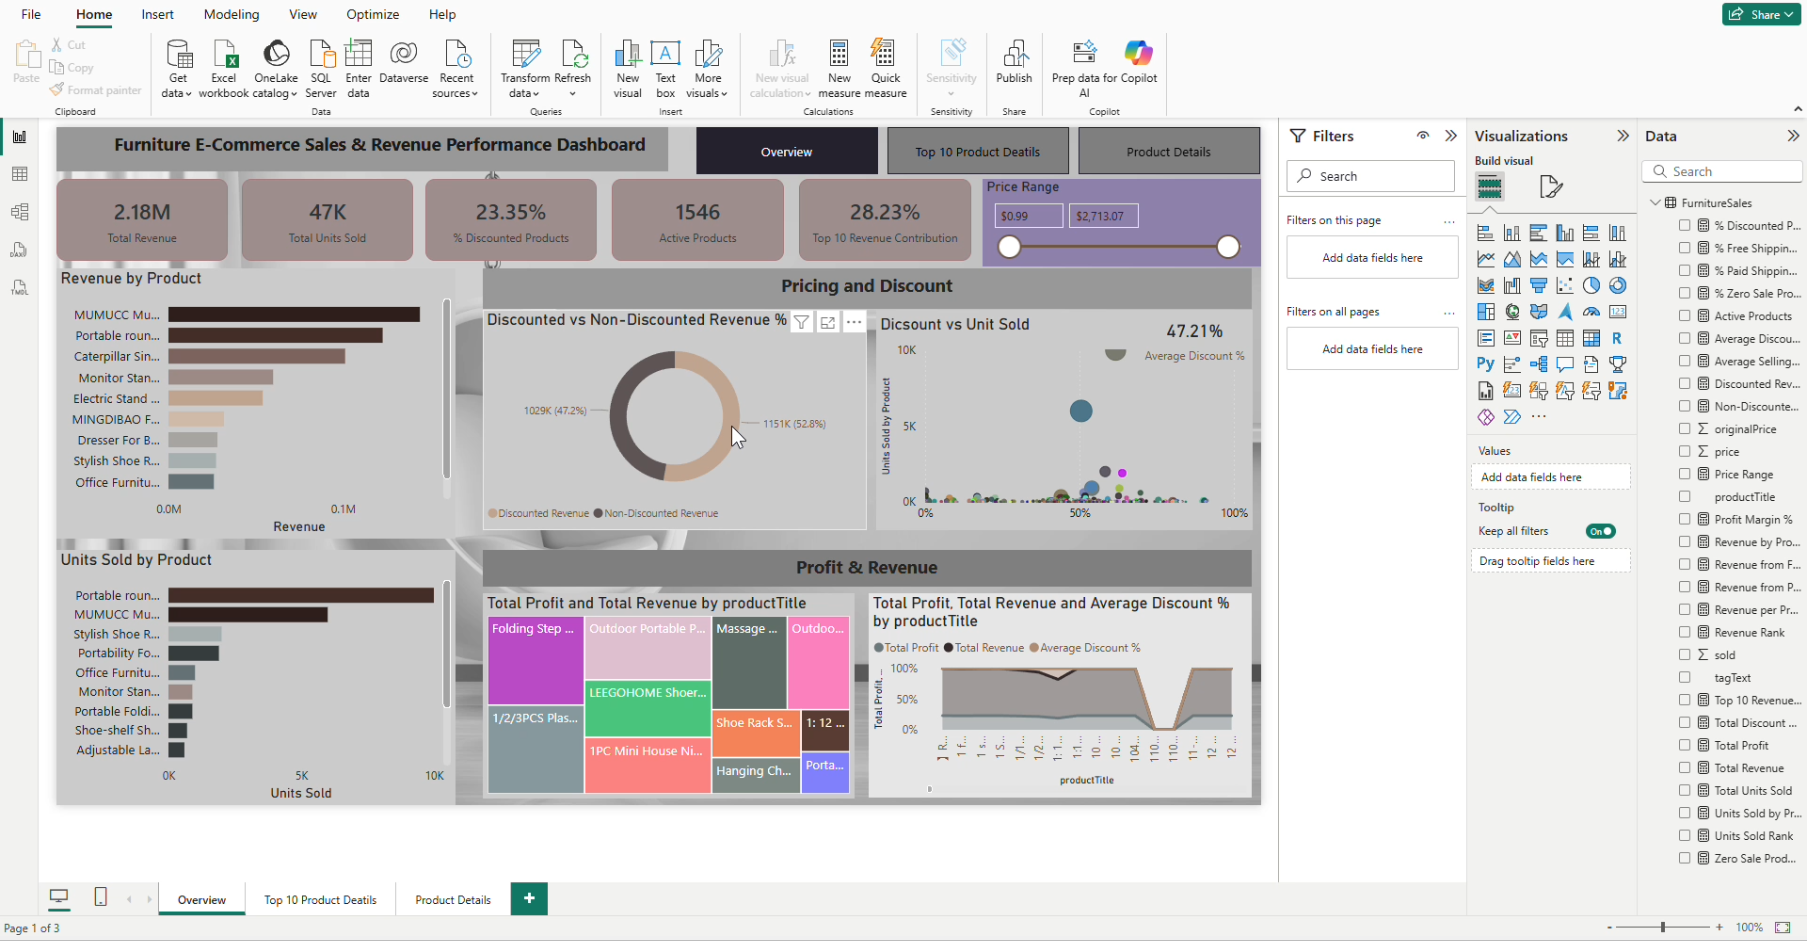

Layout of this report page (visuals, bound fields, positions):
{"tool":"powerbi","page":{"name":"Overview","canvas":[1280,720],"ordinal":0},"visuals":[{"type":"actionButton","box":[0,0,100,40],"z":0},{"type":"textbox","box":[0,0,650.2,46.7],"z":1000},{"type":"barChart","fields":{"Y":["FurnitureSales.Revenue by Product"],"Category":["FurnitureSales.productTitle"]},"box":[0,149.7,423.8,287.7],"z":2000},{"type":"barChart","fields":{"Y":["FurnitureSales.Units Sold by Product"],"Category":["FurnitureSales.productTitle"]},"box":[0,448.7,423.8,271.3],"z":3000},{"type":"scatterChart","title":"Dicsount vs Unit Sold","fields":{"X":["FurnitureSales.Average Discount %"],"Y":["FurnitureSales.Units Sold by Product"],"Size":["FurnitureSales.Revenue by Product"],"Category":["FurnitureSales.productTitle"]},"box":[870.7,194.2,399.9,234.1],"z":4000},{"type":"donutChart","title":"Discounted vs Non-Discounted Revenue %","fields":{"Y":["FurnitureSales.Discounted Revenue","FurnitureSales.Non-Discounted Revenue"]},"box":[453.1,194.2,407.9,234.1],"z":5000},{"type":"textbox","box":[452.9,149.7,817.4,43.7],"z":6000},{"type":"treemap","fields":{"Group":["FurnitureSales.productTitle"],"Values":["FurnitureSales.Total Profit"]},"box":[453.1,494.8,394.6,218.1],"z":7000},{"type":"textbox","box":[452.9,449,817.4,38.9],"z":8000},{"type":"card","title":"Top 10 Revenue Contribution","fields":{"Values":["FurnitureSales.Top 10 Revenue Contribution %"]},"box":[789,55.5,182.7,86.9],"z":9000},{"type":"card","title":"Top 10 Revenue Contribution","fields":{"Values":["FurnitureSales.Active Products"]},"box":[590.4,55.5,182.7,86.9],"z":10000},{"type":"card","title":"Top 10 Revenue Contribution","fields":{"Values":["FurnitureSales.% Discounted Products"]},"box":[391.7,55.5,182.7,86.9],"z":11000},{"type":"card","title":"Top 10 Revenue Contribution","fields":{"Values":["FurnitureSales.Total Units Sold"]},"box":[196.7,55.5,182.7,86.9],"z":12000},{"type":"card","title":"Top 10 Revenue Contribution","fields":{"Values":["FurnitureSales.Total Revenue"]},"box":[-0.2,55.5,182.7,86.9],"z":13000},{"type":"card","fields":{"Values":["FurnitureSales.Average Discount %"]},"box":[1148.7,193.6,121.6,61.3],"z":14000},{"type":"hundredPercentStackedAreaChart","title":"Profit, Revenue and Average Discount % by Product Title","fields":{"Category":["FurnitureSales.productTitle"],"Y":["FurnitureSales.Total Profit","FurnitureSales.Total Revenue","FurnitureSales.Average Discount %"]},"box":[863.1,494.7,407.2,217.7],"z":15000},{"type":"slicer","title":"Price Range","fields":{"Values":["FurnitureSales.price"]},"box":[984.1,55.4,295.7,92.4],"z":16000},{"type":"pageNavigator","box":[680.3,0,599.7,49.6],"z":17000}]}

Visuals, with their boxes on the page's 1280x720 design canvas (x1, y1, x2, y2). These are canvas units, not pixel positions in the 1807x941 screenshot, which may show the page scaled, cropped or inside an application window:
actionButton: locate(0, 0, 100, 40)
textbox: locate(0, 0, 650, 47)
barChart - FurnitureSales.Revenue by Product x FurnitureSales.productTitle: locate(0, 150, 424, 437)
barChart - FurnitureSales.Units Sold by Product x FurnitureSales.productTitle: locate(0, 449, 424, 720)
"Dicsount vs Unit Sold" scatterChart: locate(871, 194, 1271, 428)
"Discounted vs Non-Discounted Revenue %" donutChart: locate(453, 194, 861, 428)
textbox: locate(453, 150, 1270, 193)
treemap - FurnitureSales.productTitle x FurnitureSales.Total Profit: locate(453, 495, 848, 713)
textbox: locate(453, 449, 1270, 488)
"Top 10 Revenue Contribution" card: locate(789, 56, 972, 142)
"Top 10 Revenue Contribution" card: locate(590, 56, 773, 142)
"Top 10 Revenue Contribution" card: locate(392, 56, 574, 142)
"Top 10 Revenue Contribution" card: locate(197, 56, 379, 142)
"Top 10 Revenue Contribution" card: locate(0, 56, 182, 142)
card - FurnitureSales.Average Discount %: locate(1149, 194, 1270, 255)
"Profit, Revenue and Average Discount % by Product Title" hundredPercentStackedAreaChart: locate(863, 495, 1270, 712)
"Price Range" slicer: locate(984, 55, 1280, 148)
pageNavigator: locate(680, 0, 1280, 50)
